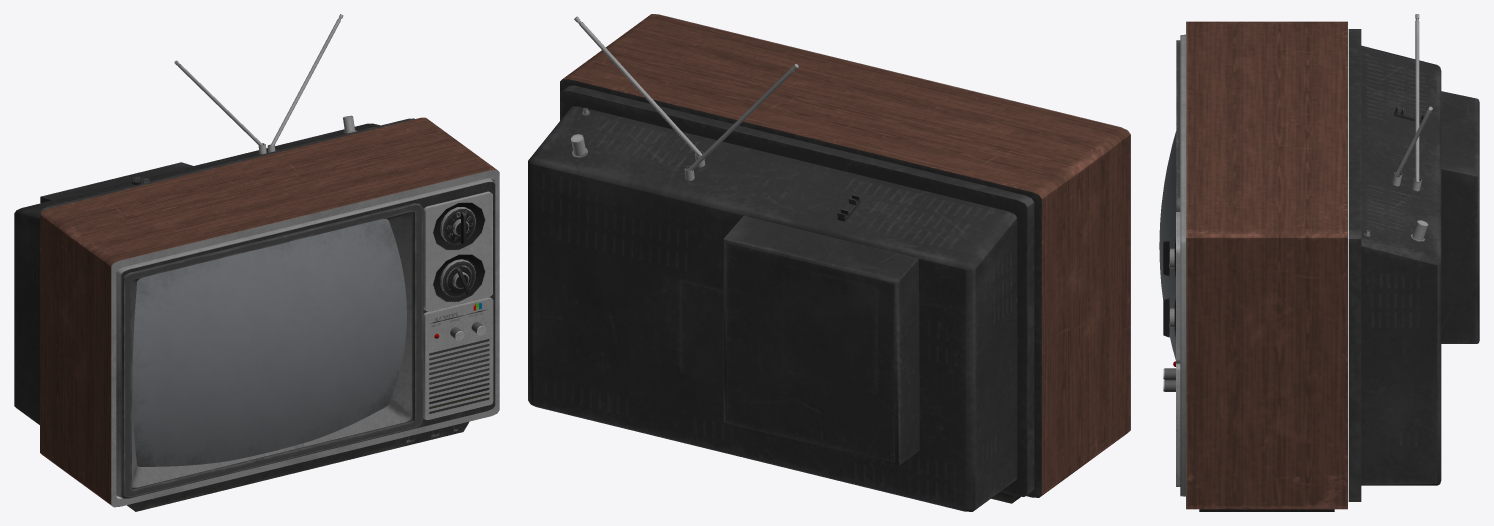
File: old_tv.glb
The picture shows the model from 3 angles, left to right: view 1: azimuth 30°, elevation 25°; view 2: azimuth 150°, elevation 25°; view 3: azimuth 270°, elevation 25°; orthographic projection. The views are drawn at different scales.
Visible parts, largest first — view 1: TV; view 2: TV; view 3: TV.
Boxes of the visible parts, box(x1,y1,x2,y2) form: TV: box(14, 14, 499, 511); TV: box(528, 14, 1130, 511); TV: box(1159, 14, 1479, 511).
Size of the model in its own units: 424 by 363 by 267.
1 material, 1 textured.
